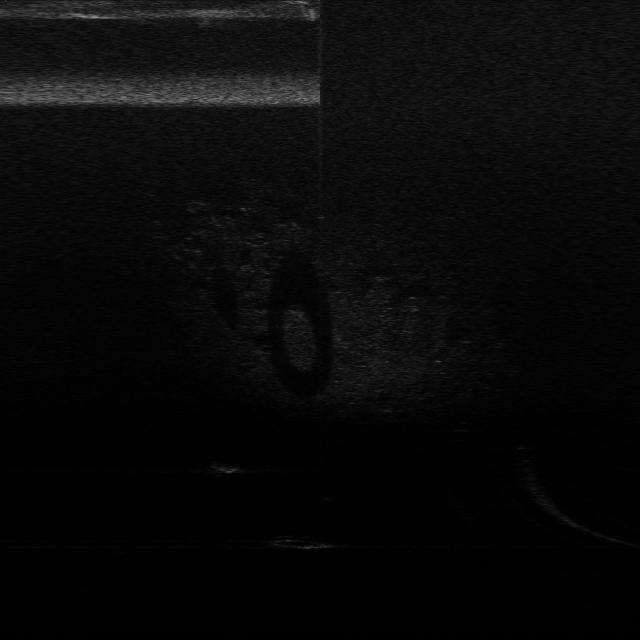square cage: (212, 456, 243, 477)
tyre: (270, 532, 340, 554)
